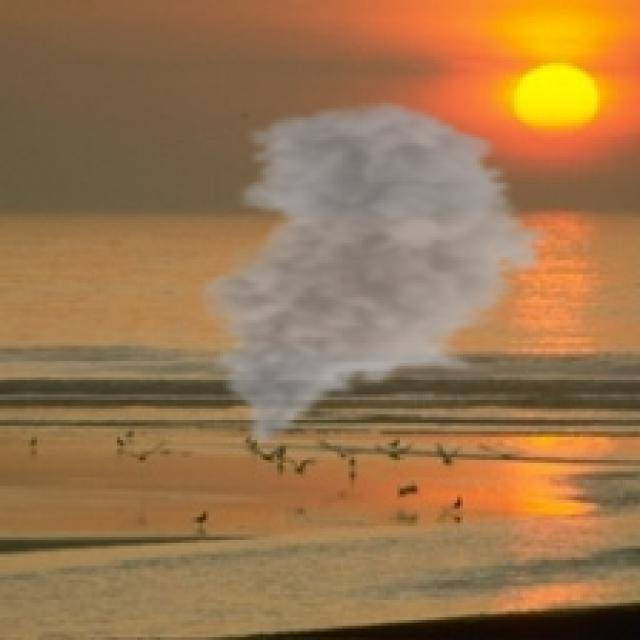Smoke: (188, 97, 558, 449)
